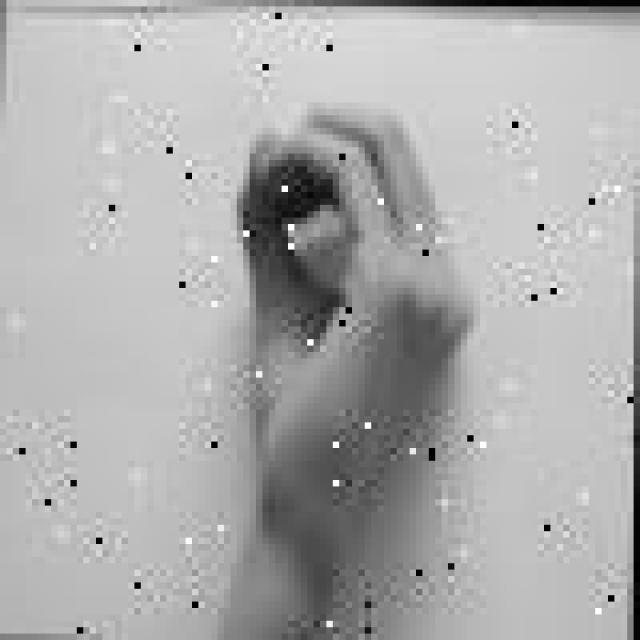O: (211, 87, 493, 516)
